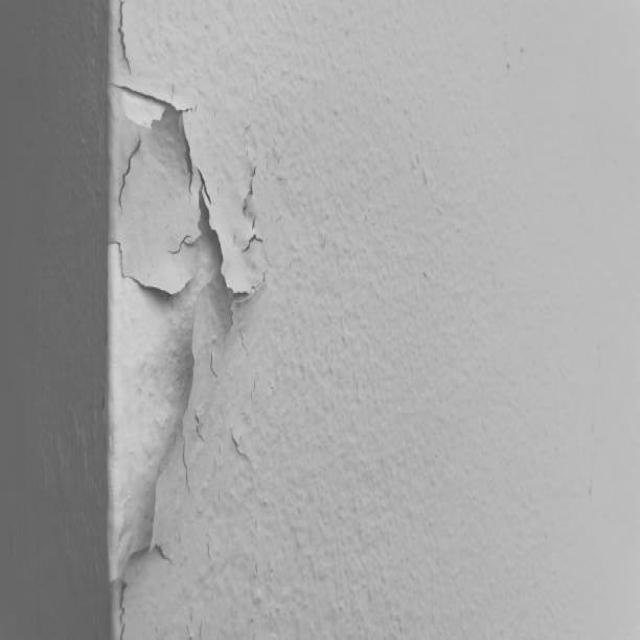peeling paint: (82, 0, 279, 640)
